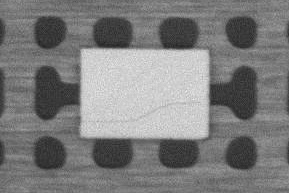DIE_CRACK: (89, 100, 203, 123)
